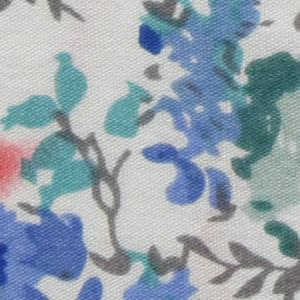Stain: (1, 132, 49, 207)
